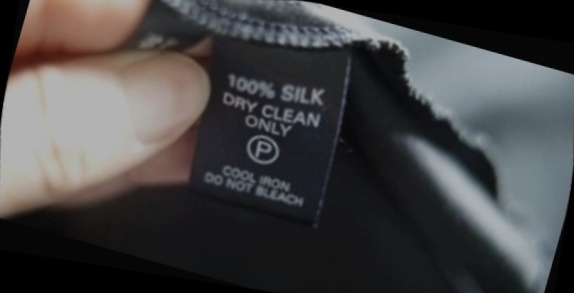dry_clean_any_solvent_except_trichloroethylene: (235, 120, 294, 178)
